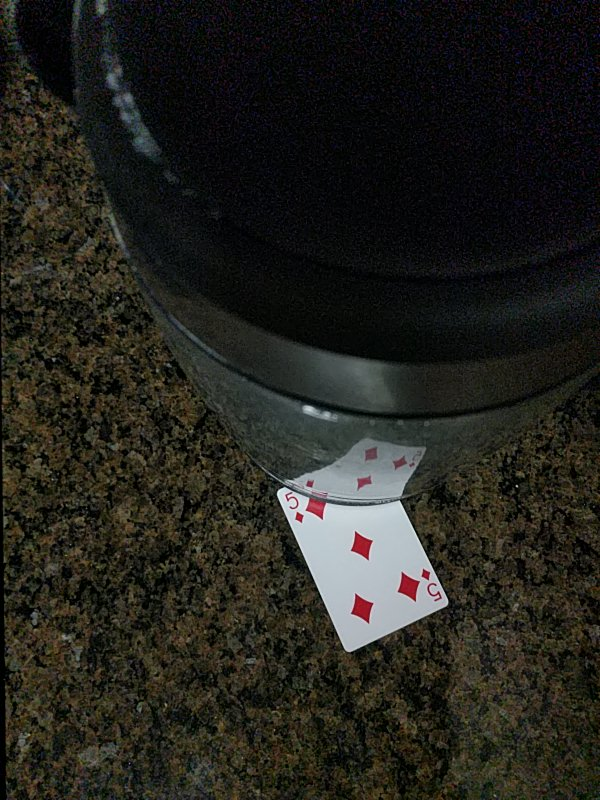Diamonds: (276, 485, 447, 652)
